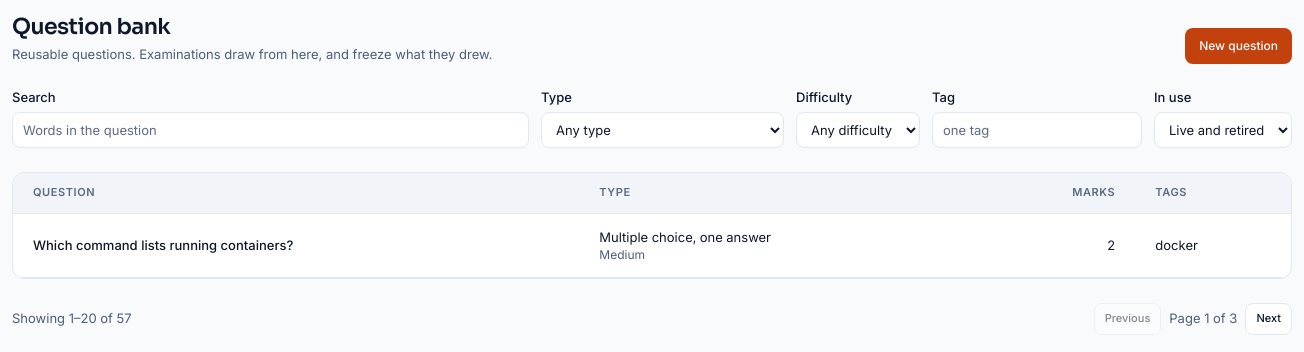
Test: the question bank › asks for the next page when the trainer pages forward
This screenshot has width=1304, height=352.
Expected: the text "Which command lists running containers?" is shown, [33, 237, 293, 253]
What coordinates should you click on to do the following:
click the button "Next"
I would click on:
 (1269, 319)
Its box is [1245, 303, 1292, 335].
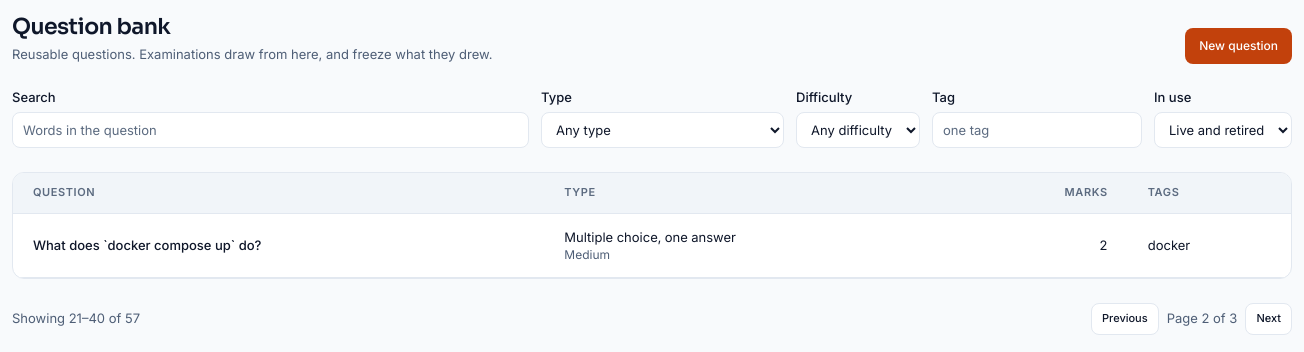
Now the text "What does `docker compose up` do?" is shown, box [33, 237, 262, 253]
